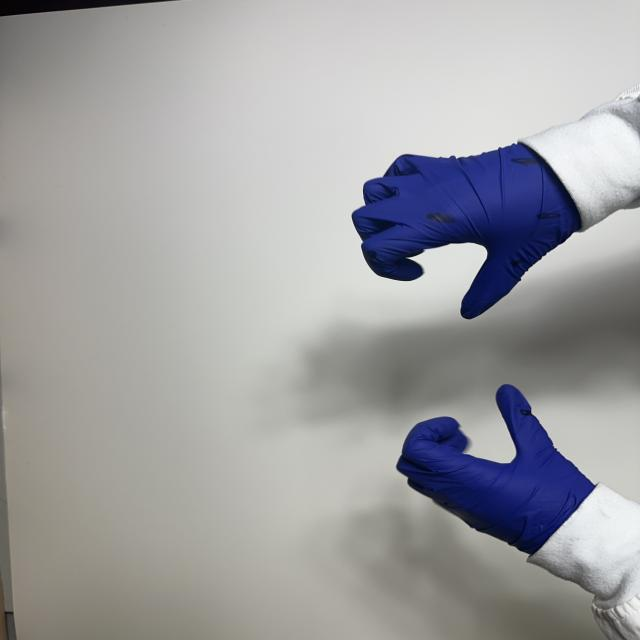gloves_contaminated: (352, 144, 579, 319), (398, 384, 595, 554)
